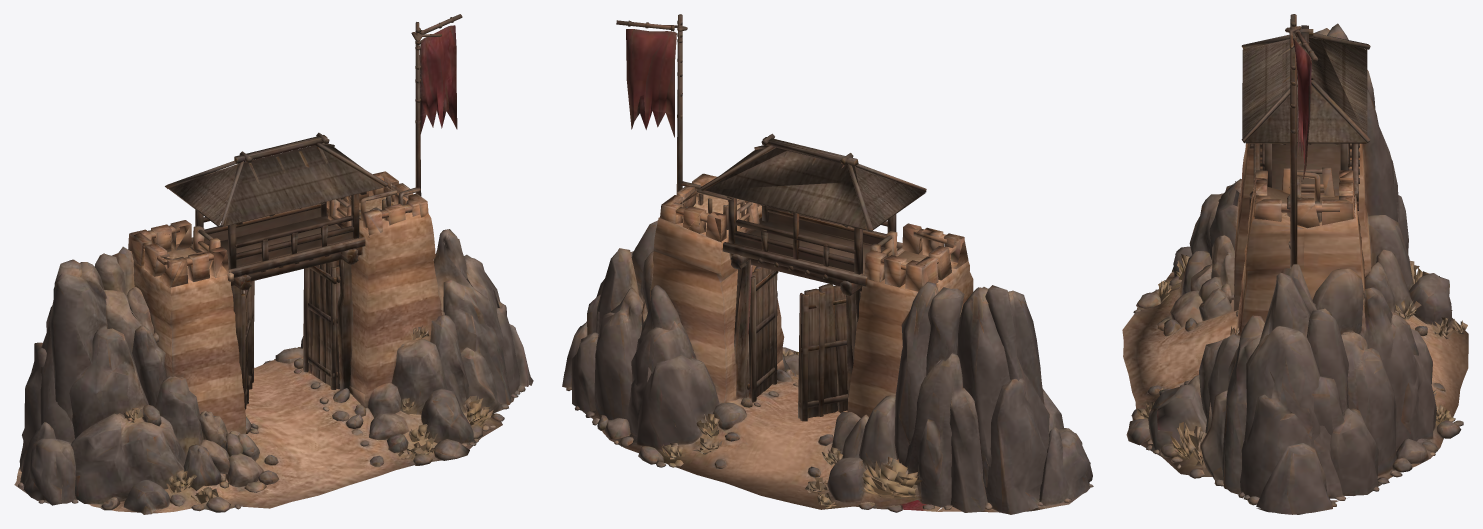
The model's file is gate.glb.
The picture shows the model from 3 angles, left to right: view 1: azimuth 30°, elevation 25°; view 2: azimuth 150°, elevation 25°; view 3: azimuth 270°, elevation 25°; orthographic projection. The views are drawn at different scales.
Size of the model in its own units: 0.959 by 0.6909 by 0.4907.
Materials: 1 (1 with a texture image).
